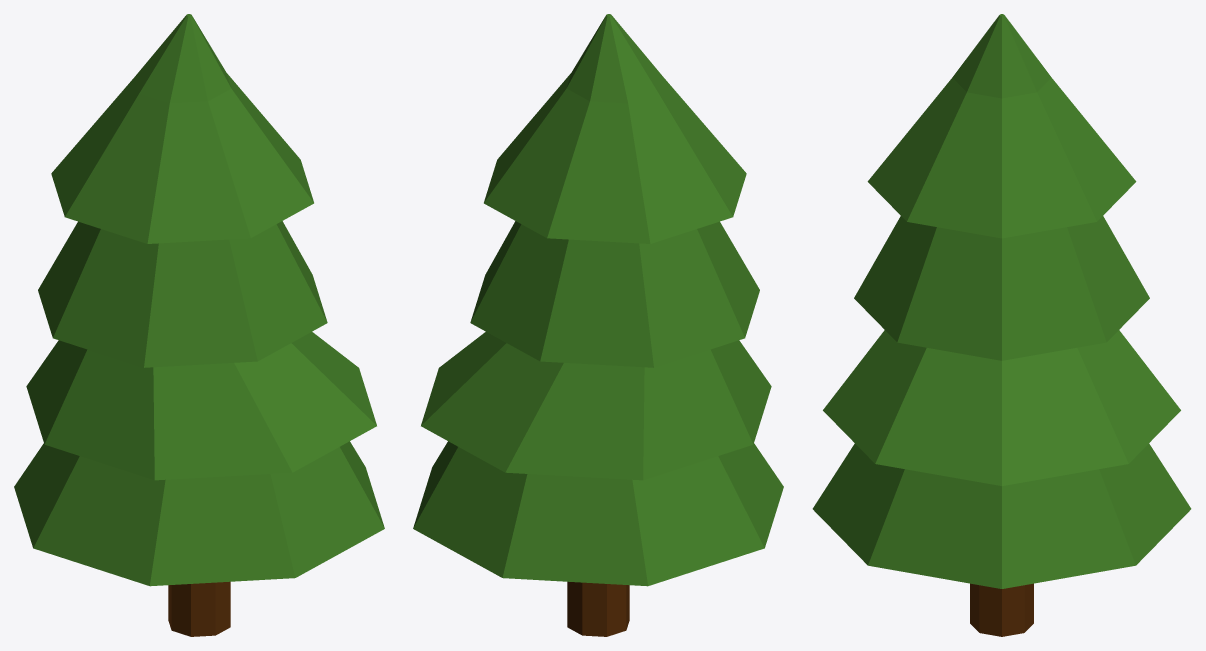
The model's file is tree1.fbx.
3 views of the same model, side by side, from view 1: azimuth 30°, elevation 25°; view 2: azimuth 150°, elevation 25°; view 3: azimuth 270°, elevation 25° (orthographic).
Visible parts, largest first — view 1: Low poly tree; view 2: Low poly tree; view 3: Low poly tree.
Part boxes in pixels (left/top/right/bottom): Low poly tree: left=14, top=14, right=384, bottom=636; Low poly tree: left=413, top=14, right=783, bottom=636; Low poly tree: left=812, top=14, right=1191, bottom=636.
Bounding box in the file's own units: 321 × 564 × 321.
